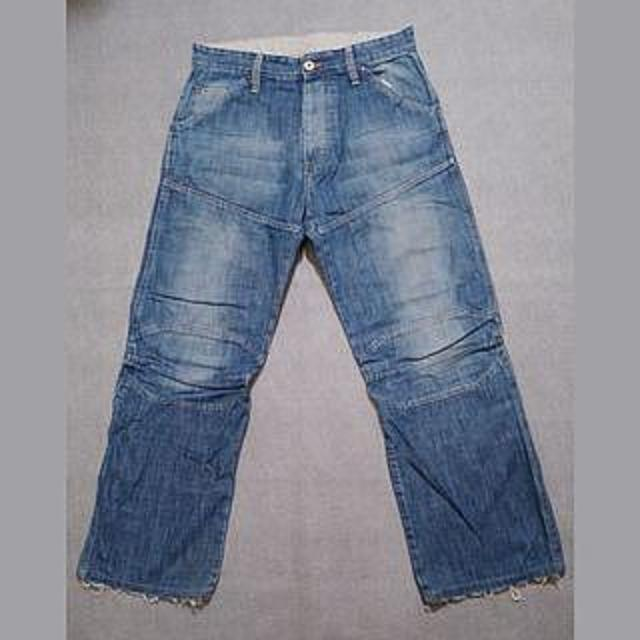TROUSER: (66, 14, 580, 618)
